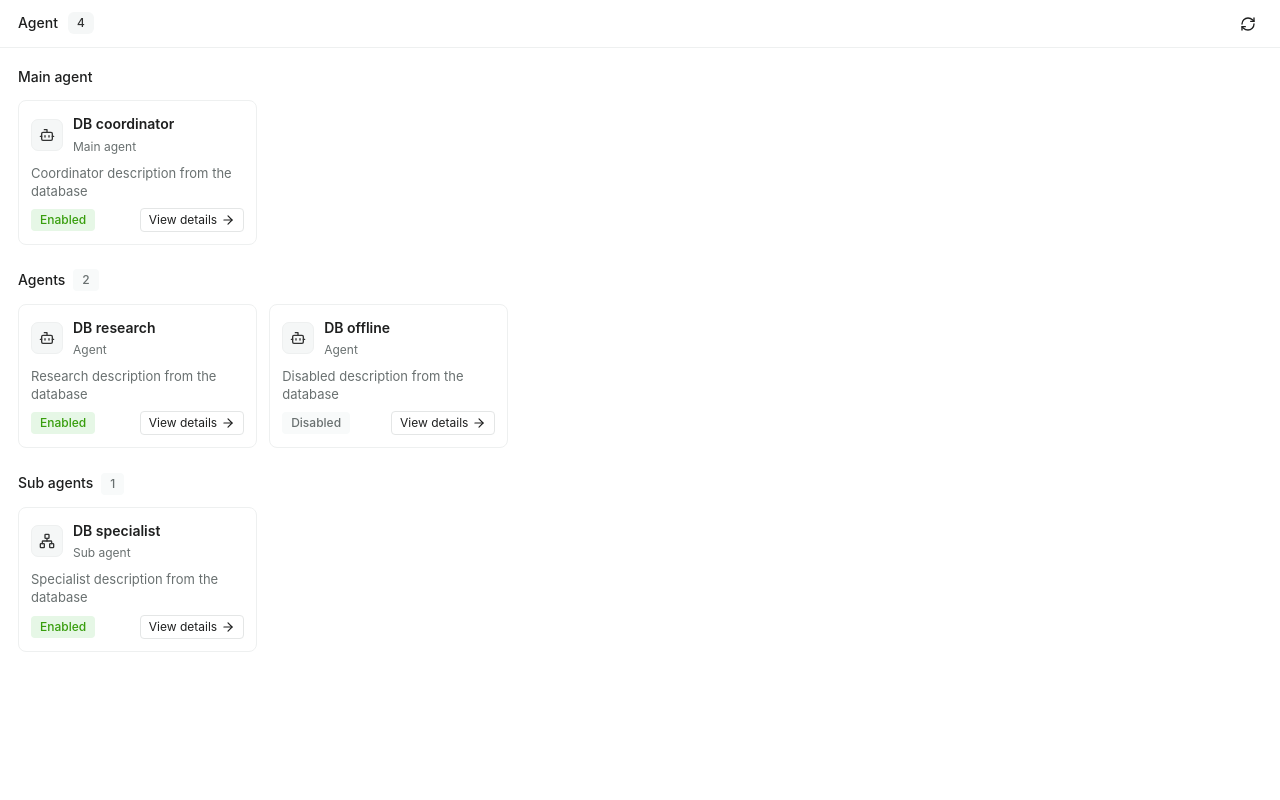
Test: opens the main agent details, closes with Escape, and opens a different agent
Click the button named "View DB coordinator details" at (138, 173), box [19,101,256,244]
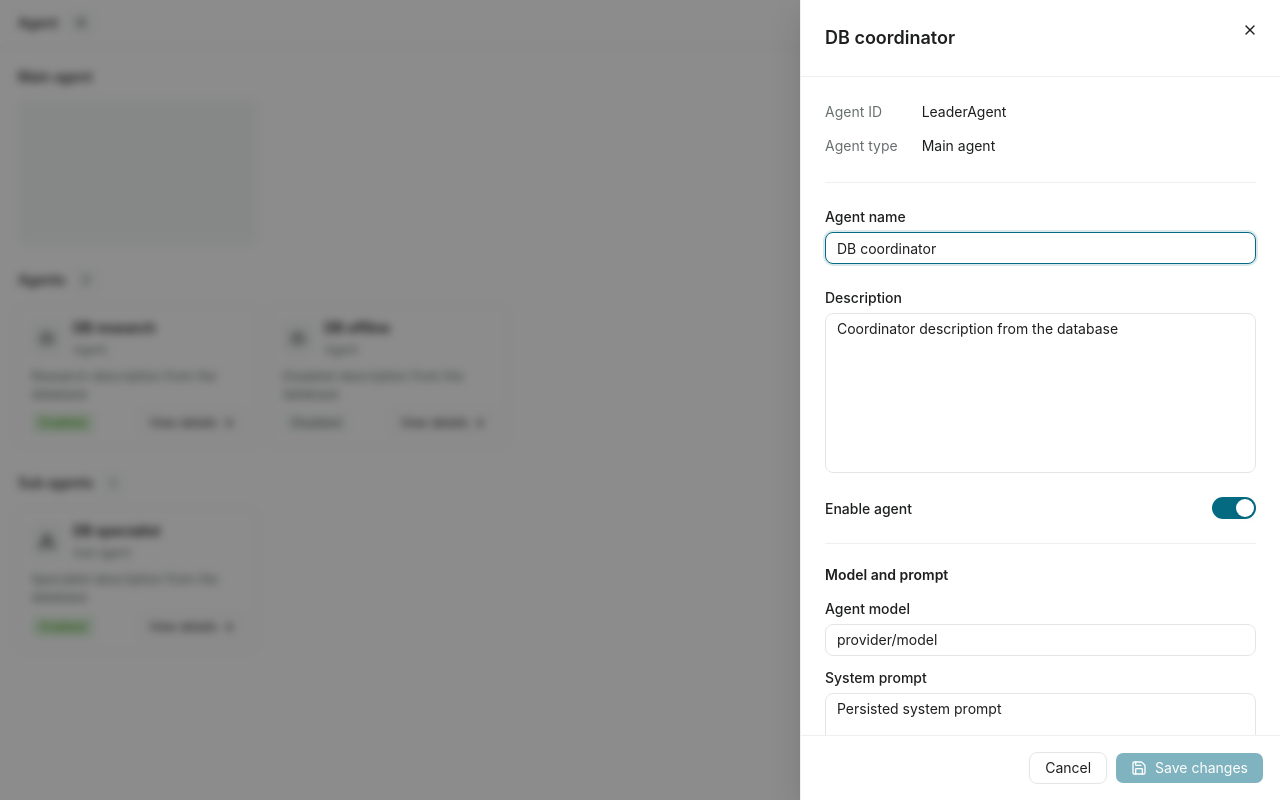
Expected: the heading "DB coordinator" is shown, [825,27,955,48]
Expected: the field labelled "Agent name" holds "DB coordinator", [825,232,1256,264]
Expected: the text box labelled "Description" holds "Coordinator description from the database", [825,313,1256,473]
Press Escape in the dialog "DB coordinator", box [800,0,1279,799]
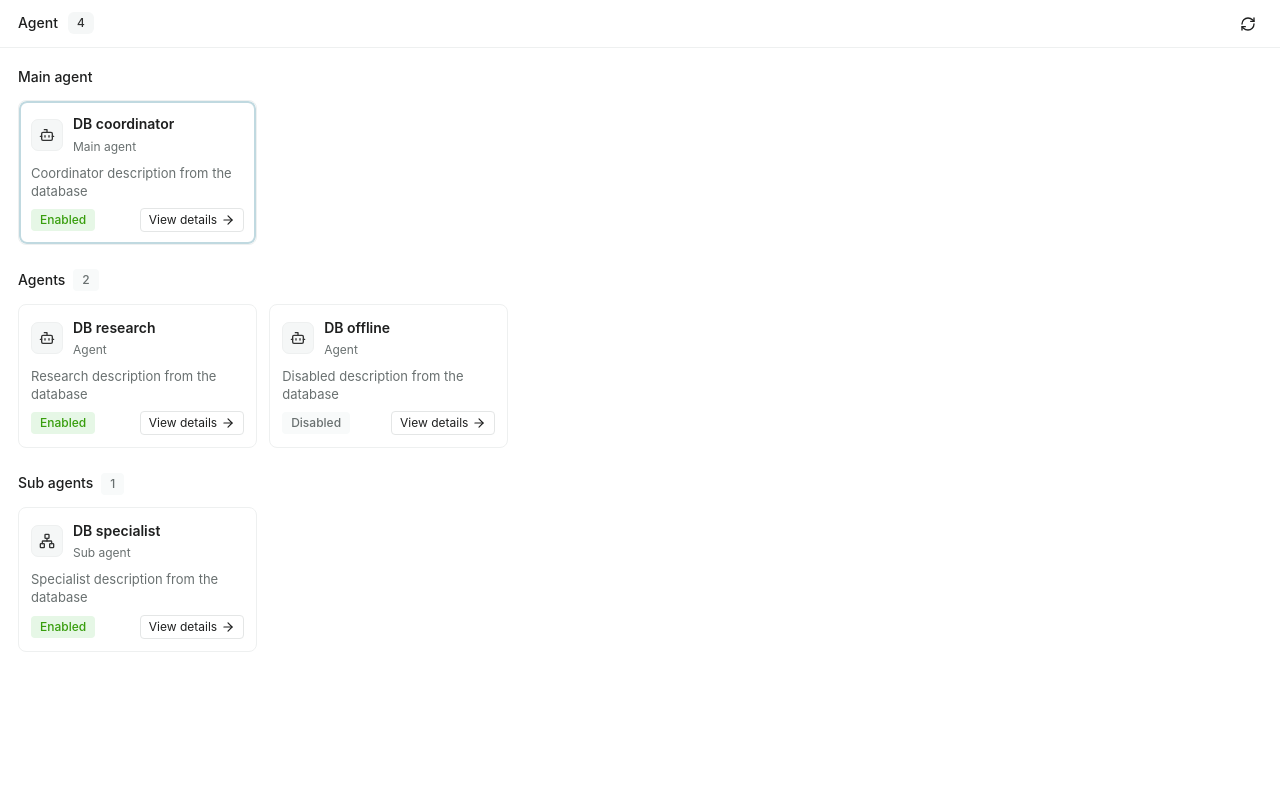
Expected: the dialog is gone
Click the button named "View DB research details" at (138, 376), box [19,305,256,447]
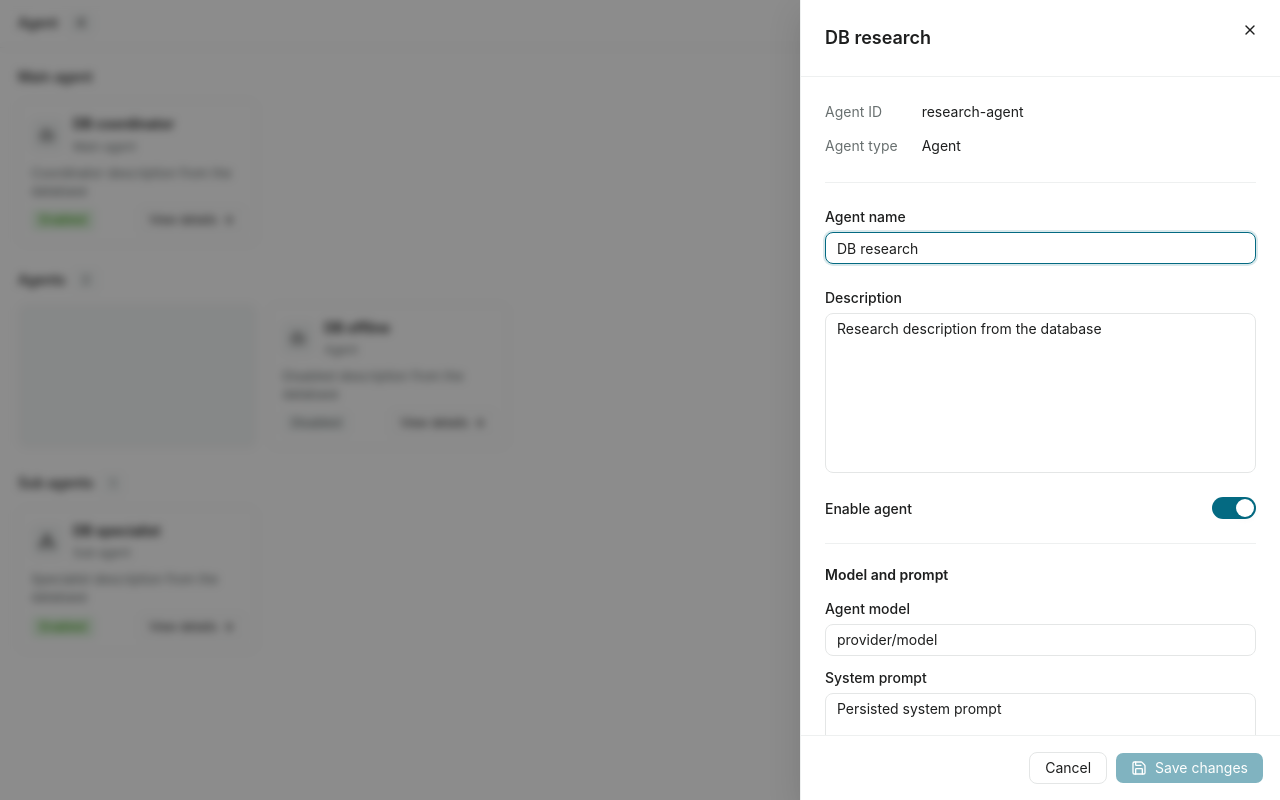
Expected: the text box labelled "Description" holds "Research description from the database", [825,313,1256,473]
Expected: the text "research-agent" is shown, [922,103,1024,120]
Expected: the text "Agent" is shown, [922,137,961,154]
Click the button named "Close" at (1250, 30), box [1236,16,1264,44]
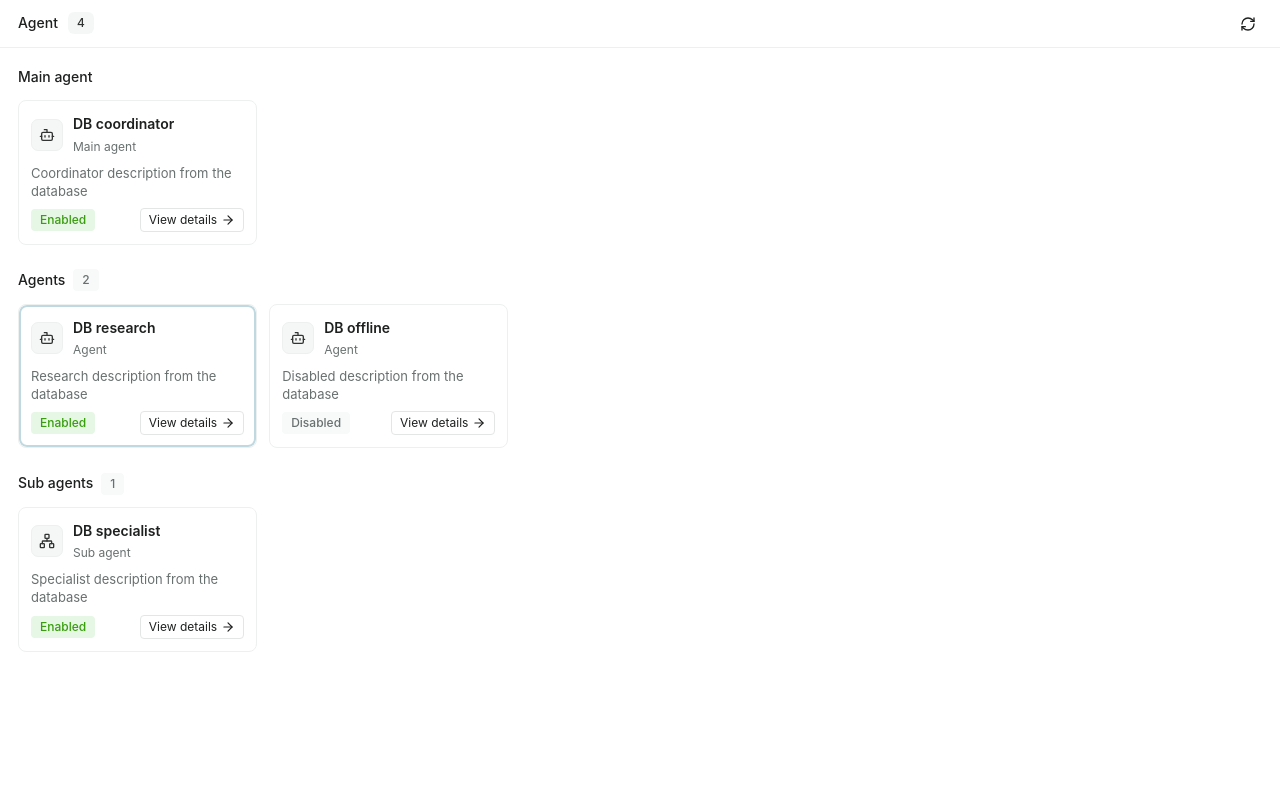
Expected: the dialog is gone
